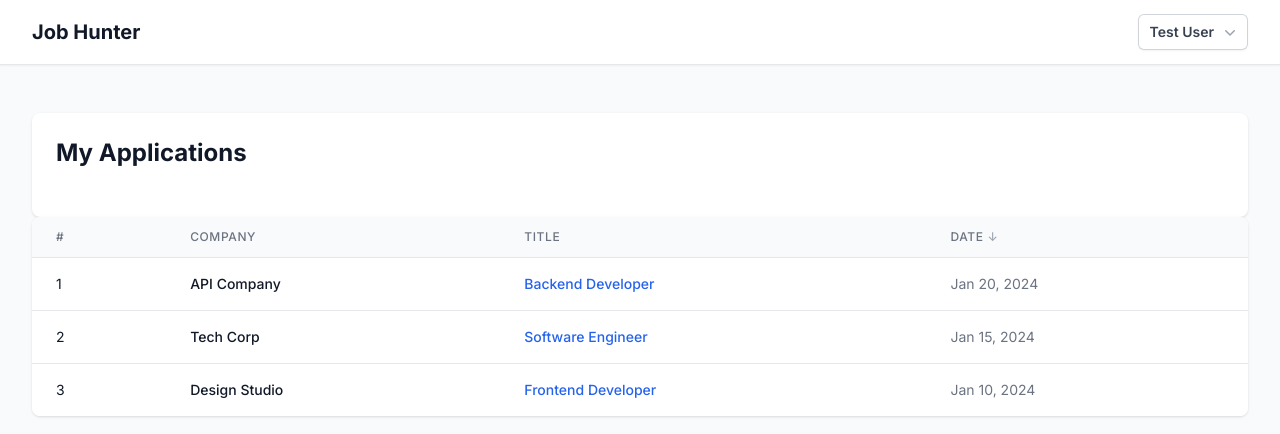
Test: ApplicationsPage › Sorting functionality › should sort by date when date header is clicked
Click the text "Date". click: (967, 237)
box: x1=950 y1=229 x2=984 y2=245
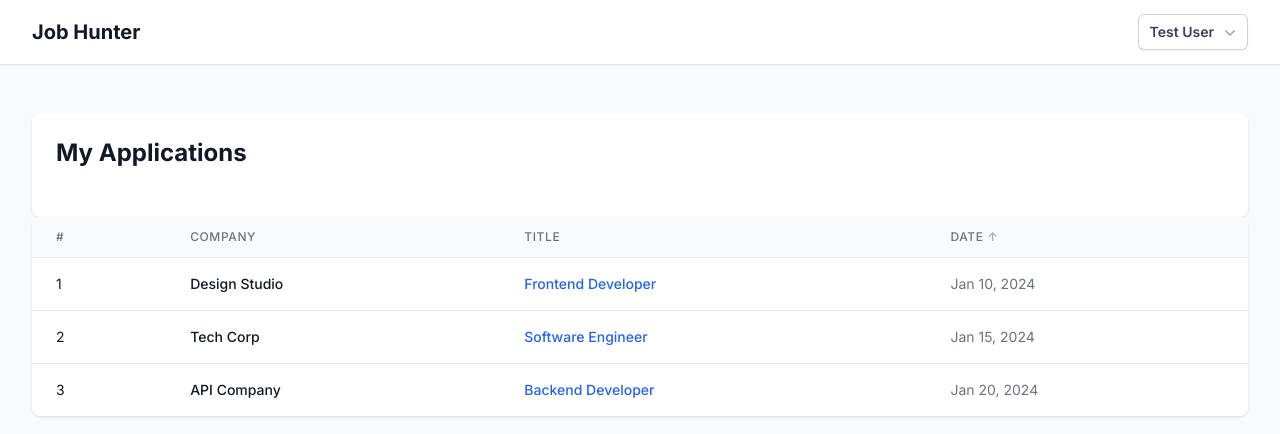
Expected: the text "↑" is shown, x1=988 y1=229 x2=998 y2=245
